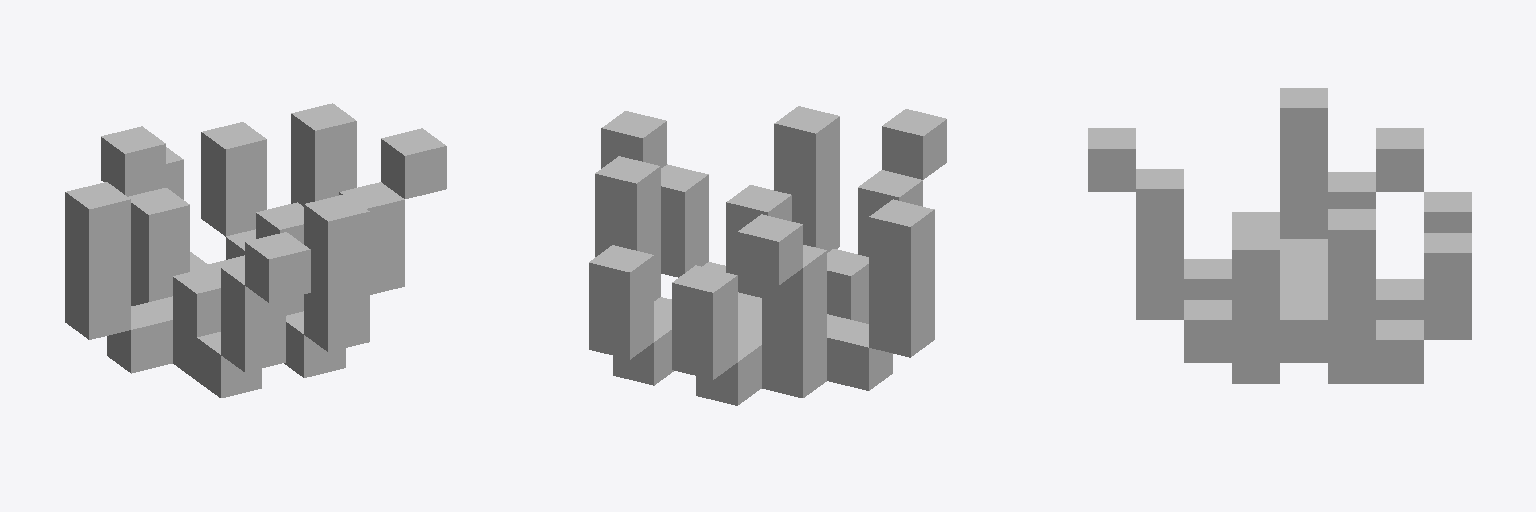
The model's file is desert_bush.obj.
3 renders of one model, left to right at view 1: azimuth 30°, elevation 25°; view 2: azimuth 150°, elevation 25°; view 3: azimuth 270°, elevation 25°, orthographic.
Bounding box in the file's own units: 8 × 4 × 8.